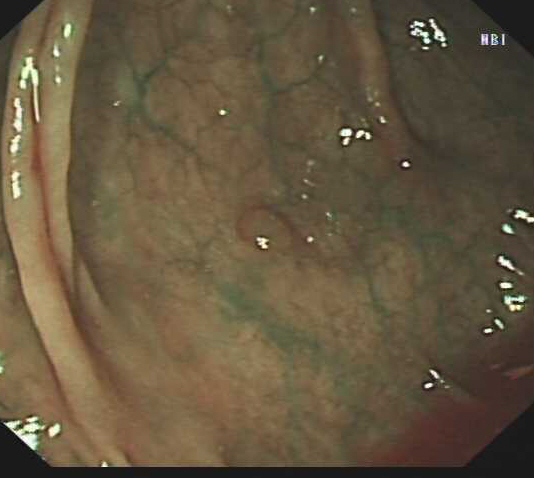adenoma: (228, 204, 295, 253)
